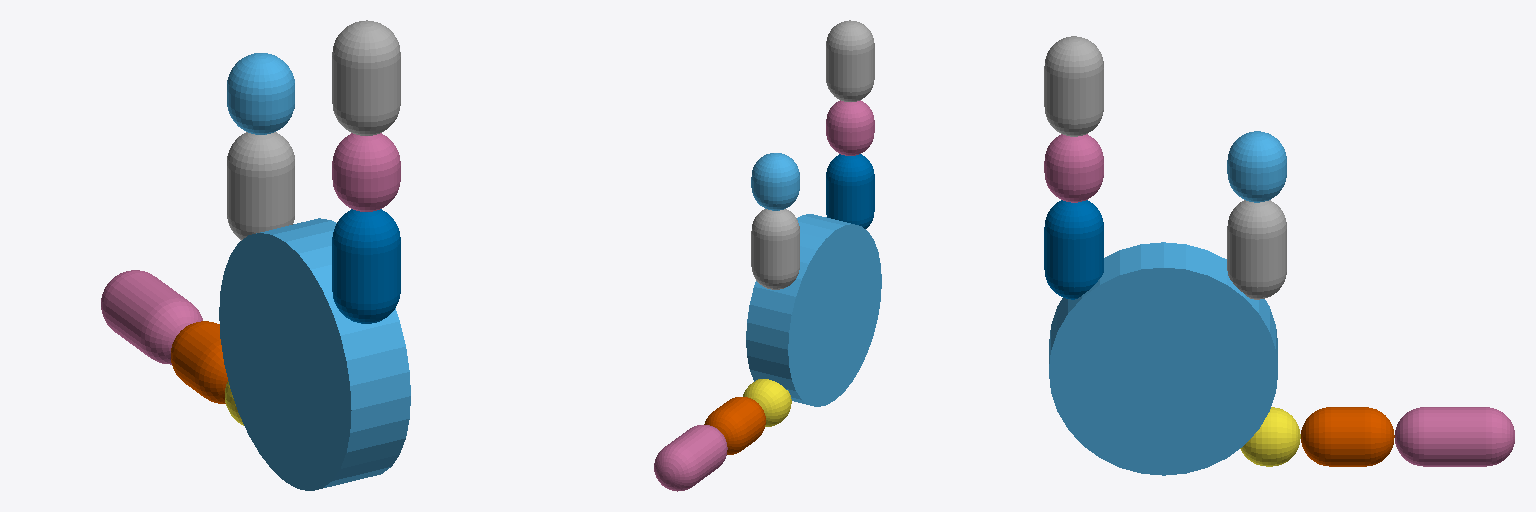
URDF robot description (DexterousHand):
<?xml version="1.0"?>
<robot name="DexterousHand">


    <link name="world"/>
    <joint name="world_to_palm" type="fixed">
        <parent link="world"/>
        <child link="palm"/>
        <origin xyz="0 0 0" rpy="0 0 0"/>
    </joint>
    <link name="palm">
        <inertial>
            <origin xyz="0 0 0.057" rpy="0 0 0"/>
            <mass value="0.30212892864"/>
            <inertia ixx="0.00049080844457568" ixy="0.0" ixz="0.0" iyy="0.00026746366246427523" iyz="0.0" izz="0.00026746366246427523"/>
        </inertial>
        <visual>
            <origin xyz="0 0 0.057" rpy="1.5708 0 1.5708"/>
            <geometry>
                <cylinder radius="0.057" length="0.0296"/>
            </geometry>
            <material name="default"/>
        </visual>
        <collision>
            <origin xyz="0 0 0.057" rpy="1.5708 0 1.5708"/>
            <geometry>
                <cylinder radius="0.057" length="0.0296"/>
            </geometry>
        </collision>
    </link>

    
    <joint name="thumb_joint1" type="revolute">
        <parent link="palm"/>
        <child link="thumb_base"/>
        <origin xyz="0.0029 0.0368 0.0157" rpy="-1.5708 -1.5708 0.0"/>
        <axis xyz="-1 0 0"/>
        <limit lower="-0.349" upper="2.094" effort="1.0" velocity="1.0"/>
    </joint>

    <link name="thumb_base"></link>

    <joint name="thumb_joint2" type="revolute">
        <parent link="thumb_base"/>
        <child link="thumb_proximal"/>
        <origin xyz="0.0 0.0 0.0" rpy="0.0 0.0 0.0"/>
        <axis xyz="0 0 1"/>
        <limit lower="-0.47" upper="2.443" effort="1.0" velocity="1.0"/>
    </joint>

    <link name="thumb_proximal">
        <inertial>
            <origin xyz="0 0 0.01565" rpy="0 0 0"/>
            <mass value="0.021538658803200002"/>
            <inertia ixx="2.9378910096388167e-06" ixy="0.0" ixz="0.0" 
            iyy="2.9378910096388167e-06" iyz="0.0" izz="2.358913912126464e-06"/>
        </inertial>
        <visual>
            <origin xyz="0 0 0.01565" rpy="0 0 0"/>
            <geometry>
                <cylinder radius="0.0148" length="0.0017000000000000001"/>
            </geometry>
            <material name="default"/>
        </visual>
        <visual>
            <origin xyz="0 0 0.0148" rpy="0 0 0"/>
            <geometry>
                <sphere radius="0.0148"/>
            </geometry>
            <material name="default"/>
        </visual>
        <visual>
            <origin xyz="0 0 0.0165" rpy="0 0 0"/>
            <geometry>
                <sphere radius="0.0148"/>
            </geometry>
            <material name="default"/>
        </visual>
        <collision>
            <origin xyz="0 0 0.01565" rpy="0 0 0"/>
            <geometry>
                <cylinder radius="0.0148" length="0.0017000000000000001"/>
            </geometry>
        </collision>
        <collision>
            <origin xyz="0 0 0.0148" rpy="0 0 0"/>
            <geometry>
                <sphere radius="0.0148"/>
            </geometry>
        </collision>
        <collision>
            <origin xyz="0 0 0.0165" rpy="0 0 0"/>
            <geometry>
                <sphere radius="0.0148"/>
            </geometry>
        </collision>
    </link>

    <joint name="thumb_joint3" type="revolute">
        <parent link="thumb_proximal"/>
        <child link="thumb_knuckle"/>
        <origin xyz="0.0 0.0 0.0313" rpy="0.0 0.0 0.0"/>
        <axis xyz="1 0 0"/>
        <limit lower="0.0" upper="0.0" effort="1.0" velocity="1.0"/>
    </joint>

    <link name="thumb_knuckle"></link>

    <joint name="thumb_joint4" type="revolute">
        <parent link="thumb_knuckle"/>
        <child link="thumb_middle"/>
        <origin xyz="0 0 0" rpy="0 0 0"/> 
        <axis xyz="0 1 0"/>
        <limit lower="-1.2" upper="1.9" effort="1.0" velocity="1.0"/>
    </joint>

    <link name="thumb_middle">
        <inertial>
            <origin xyz="0 0 0.0233" rpy="0 0 0"/>
            <mass value="0.032067140582400004"/>
            <inertia ixx="7.5589732685519385e-06" ixy="0.0" ixz="0.0" 
            iyy="7.5589732685519385e-06" iyz="0.0" izz="3.5119932365844485e-06"/>
        </inertial>
        <visual>
            <origin xyz="0 0 0.0233" rpy="0 0 0"/>
            <geometry>
                <cylinder radius="0.0148" length="0.017"/>
            </geometry>
            <material name="default"/>
        </visual>
        <visual>
            <origin xyz="0 0 0.0148" rpy="0 0 0"/>
            <geometry>
                <sphere radius="0.0148"/>
            </geometry>
            <material name="default"/>
        </visual>
        <visual>
            <origin xyz="0 0 0.0318" rpy="0 0 0"/>
            <geometry>
                <sphere radius="0.0148"/>
            </geometry>
            <material name="default"/>
        </visual>
        <collision>
            <origin xyz="0 0 0.0233" rpy="0 0 0"/>
            <geometry>
                <cylinder radius="0.0148" length="0.017"/>
            </geometry>
        </collision>
        <collision>
            <origin xyz="0 0 0.0148" rpy="0 0 0"/>
            <geometry>
                <sphere radius="0.0148"/>
            </geometry>
        </collision>
        <collision>
            <origin xyz="0 0 0.0318" rpy="0 0 0"/>
            <geometry>
                <sphere radius="0.0148"/>
            </geometry>
        </collision>
    </link>

    <joint name="thumb_joint5" type="revolute">
        <parent link="thumb_middle"/>
        <child link="thumb_distal"/>
        <origin xyz="0 0 0.0466" rpy="0 0 0"/> 
        <axis xyz="0 1 0"/>
        <limit lower="-1.34" upper="1.88" effort="1.0" velocity="1.0"/>
    </joint>

    <link name="thumb_distal">
        <inertial>
            <origin xyz="0 0 0.03" rpy="0 0 0"/>
            <mass value="0.04128816384"/>
            <inertia ixx="1.46473890038784e-05" ixy="0.0" ixz="0.0" 
            iyy="1.46473890038784e-05" iyz="0.0" izz="4.521879703756801e-06"/>
        </inertial>
        <visual>
            <origin xyz="0 0 0.03" rpy="0 0 0"/>
            <geometry>
                <cylinder radius="0.0148" length="0.030399999999999996"/>
            </geometry>
            <material name="default"/>
        </visual>
        <visual>
            <origin xyz="0 0 0.0148" rpy="0 0 0"/>
            <geometry>
                <sphere radius="0.0148"/>
            </geometry>
            <material name="default"/>
        </visual>
        <visual>
            <origin xyz="0 0 0.0452" rpy="0 0 0"/>
            <geometry>
                <sphere radius="0.0148"/>
            </geometry>
            <material name="default"/>
        </visual>
        <collision>
            <origin xyz="0 0 0.03" rpy="0 0 0"/>
            <geometry>
                <cylinder radius="0.0148" length="0.030399999999999996"/>
            </geometry>
        </collision>
        <collision>
            <origin xyz="0 0 0.0148" rpy="0 0 0"/>
            <geometry>
                <sphere radius="0.0148"/>
            </geometry>
        </collision>
        <collision>
            <origin xyz="0 0 0.0452" rpy="0 0 0"/>
            <geometry>
                <sphere radius="0.0148"/>
            </geometry>
        </collision>
    </link>

    
    <joint name="index_joint1" type="revolute">
        <parent link="palm"/>
        <child link="index_proximal"/>
        <origin xyz="0.0 0.0465 0.091" rpy="0.0 0.0 0.0"/>
        <axis xyz="0 1 0"/>
        <limit lower="-0.314" upper="2.23" effort="1.0" velocity="1.0"/>
    </joint>

    <link name="index_proximal">
        <inertial>
            <origin xyz="0 0 0.02655" rpy="0 0 0"/>
            <mass value="0.036540024998400006"/>
            <inertia ixx="1.058665009272394e-05" ixy="0.0" ixz="0.0" 
            iyy="1.058665009272394e-05" iyz="0.0" izz="4.001863537824769e-06"/>
        </inertial>
        <visual>
            <origin xyz="0 0 0.02655" rpy="0 0 0"/>
            <geometry>
                <cylinder radius="0.0148" length="0.0235"/>
            </geometry>
            <material name="default"/>
        </visual>
        <visual>
            <origin xyz="0 0 0.0148" rpy="0 0 0"/>
            <geometry>
                <sphere radius="0.0148"/>
            </geometry>
            <material name="default"/>
        </visual>
        <visual>
            <origin xyz="0 0 0.0383" rpy="0 0 0"/>
            <geometry>
                <sphere radius="0.0148"/>
            </geometry>
            <material name="default"/>
        </visual>
        <collision>
            <origin xyz="0 0 0.02655" rpy="0 0 0"/>
            <geometry>
                <cylinder radius="0.0148" length="0.0235"/>
            </geometry>
        </collision>
        <collision>
            <origin xyz="0 0 0.0148" rpy="0 0 0"/>
            <geometry>
                <sphere radius="0.0148"/>
            </geometry>
        </collision>
        <collision>
            <origin xyz="0 0 0.0383" rpy="0 0 0"/>
            <geometry>
                <sphere radius="0.0148"/>
            </geometry>
        </collision>
    </link>

    <joint name="index_joint2" type="revolute">
        <parent link="index_proximal"/>
        <child link="index_dummy"/>
        <origin xyz="0.0 0.0 0.038" rpy="0.0 0.0 0.0"/>
        <axis xyz="1 0 0"/>
        <limit lower="-1.047" upper="1.047" effort="1.0" velocity="1.0"/>
    </joint>

    <link name="index_dummy"></link>

    <joint name="index_joint3" type="revolute">
        <parent link="index_dummy"/>
        <child link="index_middle"/>
        <origin xyz="0 0 0.015100000000000002" rpy="0 0 0"/>
        <axis xyz="0 1 0"/>
        <limit lower="-0.506" upper="1.885" effort="1.0" velocity="1.0"/>
    </joint>

    <link name="index_middle">
        <inertial>
            <origin xyz="0 0 0.01805" rpy="0 0 0"/>
            <mass value="0.0248417119104"/>
            <inertia ixx="4.058162759109537e-06" ixy="0.0" ixz="0.0" 
            iyy="4.058162759109537e-06" iyz="0.0" izz="2.7206642884270085e-06"/>
        </inertial>
        <visual>
            <origin xyz="0 0 0.01805" rpy="0 0 0"/>
            <geometry>
                <cylinder radius="0.0148" length="0.006499999999999999"/>
            </geometry>
            <material name="default"/>
        </visual>
        <visual>
            <origin xyz="0 0 0.0148" rpy="0 0 0"/>
            <geometry>
                <sphere radius="0.0148"/>
            </geometry>
            <material name="default"/>
        </visual>
        <visual>
            <origin xyz="0 0 0.0213" rpy="0 0 0"/>
            <geometry>
                <sphere radius="0.0148"/>
            </geometry>
            <material name="default"/>
        </visual>
        <collision>
            <origin xyz="0 0 0.01805" rpy="0 0 0"/>
            <geometry>
                <cylinder radius="0.0148" length="0.006499999999999999"/>
            </geometry>
        </collision>
        <collision>
            <origin xyz="0 0 0.0148" rpy="0 0 0"/>
            <geometry>
                <sphere radius="0.0148"/>
            </geometry>
        </collision>
        <collision>
            <origin xyz="0 0 0.0213" rpy="0 0 0"/>
            <geometry>
                <sphere radius="0.0148"/>
            </geometry>
        </collision>
    </link>

    <joint name="index_joint4" type="revolute">
        <parent link="index_middle"/>
        <child link="index_distal"/>
        <origin xyz="0 0 0.0361" rpy="0 0 0"/> 
        <axis xyz="0 1 0"/>
        <limit lower="0.0" upper="0.0" effort="1.0" velocity="1.0"/>
    </joint>

    <link name="index_distal">
    </link>

    
    <joint name="middle_joint1" type="revolute">
        <parent link="palm"/>
        <child link="middle_proximal"/>
        <origin xyz="0.0 0.0 0.0" rpy="0.0 0.0 0.0"/>
        <axis xyz="1 0 0"/>
        <limit lower="0.0" upper="0.0" effort="1.0" velocity="1.0"/>
    </joint>

    <link name="middle_proximal">
    </link>

    <joint name="middle_joint2" type="revolute">
        <parent link="middle_proximal"/>
        <child link="middle_dummy"/>
        <origin xyz="0.0 0.0 0.0" rpy="0.0 0.0 0.0"/>
        <axis xyz="0 1 0"/>
        <limit lower="0.0" upper="0.0" effort="1.0" velocity="1.0"/>
    </joint>

    <link name="middle_dummy"></link>

    <joint name="middle_joint3" type="revolute">
        <parent link="middle_dummy"/>
        <child link="middle_middle"/>
        <origin xyz="0 0 0" rpy="0 0 0"/>
        <axis xyz="0 1 0"/>
        <limit lower="0.0" upper="0.0" effort="1.0" velocity="1.0"/>
    </joint>

    <link name="middle_middle">
    </link>

    <joint name="middle_joint4" type="revolute">
        <parent link="middle_middle"/>
        <child link="middle_distal"/>
        <origin xyz="0 0 0" rpy="0 0 0"/> 
        <axis xyz="0 1 0"/>
        <limit lower="0.0" upper="0.0" effort="1.0" velocity="1.0"/>
    </joint>

    <link name="middle_distal">
    </link>

    
    <joint name="ring_joint1" type="revolute">
        <parent link="palm"/>
        <child link="ring_proximal"/>
        <origin xyz="0.0 0.0 0.0" rpy="0.0 0.0 0.0"/>
        <axis xyz="1 0 0"/>
        <limit lower="0.0" upper="0.0" effort="1.0" velocity="1.0"/>
    </joint>

    <link name="ring_proximal">
    </link>

    <joint name="ring_joint2" type="revolute">
        <parent link="ring_proximal"/>
        <child link="ring_dummy"/>
        <origin xyz="0.0 0.0 0.0" rpy="0.0 0.0 0.0"/>
        <axis xyz="0 1 0"/>
        <limit lower="0.0" upper="0.0" effort="1.0" velocity="1.0"/>
    </joint>

    <link name="ring_dummy"></link>

    <joint name="ring_joint3" type="revolute">
        <parent link="ring_dummy"/>
        <child link="ring_middle"/>
        <origin xyz="0 0 0" rpy="0 0 0"/>
        <axis xyz="0 1 0"/>
        <limit lower="0.0" upper="0.0" effort="1.0" velocity="1.0"/>
    </joint>

    <link name="ring_middle">
    </link>

    <joint name="ring_joint4" type="revolute">
        <parent link="ring_middle"/>
        <child link="ring_distal"/>
        <origin xyz="0 0 0" rpy="0 0 0"/> 
        <axis xyz="0 1 0"/>
        <limit lower="0.0" upper="0.0" effort="1.0" velocity="1.0"/>
    </joint>

    <link name="ring_distal">
    </link>

    
    <joint name="little_joint0" type="revolute">
        <parent link="palm"/>
        <child link="little_base"/>
        <origin xyz="0.0 0.0 0.0" rpy="0.0 0.0 0.0"/>
        <axis xyz="0 1 0"/>
        <limit lower="0.0" upper="0.0" effort="1.0" velocity="1.0"/>
    </joint>

    <link name="little_base"></link>

    <joint name="little_joint1" type="revolute">
        <parent link="little_base"/>
        <child link="little_proximal"/>
        <origin xyz="0.0 -0.0443 0.091" rpy="-0.0 -0.0 -0.0"/>
        <axis xyz="0 1 0"/>
        <limit lower="-0.314" upper="2.23" effort="1.0" velocity="1.0"/>
    </joint>

    <link name="little_proximal">
        <inertial>
            <origin xyz="0 0 0.02655" rpy="0 0 0"/>
            <mass value="0.036540024998400006"/>
            <inertia ixx="1.058665009272394e-05" ixy="0.0" ixz="0.0" 
            iyy="1.058665009272394e-05" iyz="0.0" izz="4.001863537824769e-06"/>
        </inertial>
        <visual>
            <origin xyz="0 0 0.02655" rpy="0 0 0"/>
            <geometry>
                <cylinder radius="0.0148" length="0.0235"/>
            </geometry>
            <material name="default"/>
        </visual>
        <visual>
            <origin xyz="0 0 0.0148" rpy="0 0 0"/>
            <geometry>
                <sphere radius="0.0148"/>
            </geometry>
            <material name="default"/>
        </visual>
        <visual>
            <origin xyz="0 0 0.0383" rpy="0 0 0"/>
            <geometry>
                <sphere radius="0.0148"/>
            </geometry>
            <material name="default"/>
        </visual>
        <collision>
            <origin xyz="0 0 0.02655" rpy="0 0 0"/>
            <geometry>
                <cylinder radius="0.0148" length="0.0235"/>
            </geometry>
        </collision>
        <collision>
            <origin xyz="0 0 0.0148" rpy="0 0 0"/>
            <geometry>
                <sphere radius="0.0148"/>
            </geometry>
        </collision>
        <collision>
            <origin xyz="0 0 0.0383" rpy="0 0 0"/>
            <geometry>
                <sphere radius="0.0148"/>
            </geometry>
        </collision>
    </link>

    <joint name="little_joint2" type="revolute">
        <parent link="little_proximal"/>
        <child link="little_dummy"/>
        <origin xyz="0.0 0.0 0.038" rpy="0.0 0.0 0.0"/>
        <axis xyz="1 0 0"/>
        <limit lower="-1.047" upper="1.047" effort="1.0" velocity="1.0"/>
    </joint>

    <link name="little_dummy"></link>

    <joint name="little_joint3" type="revolute">
        <parent link="little_dummy"/>
        <child link="little_middle"/>
        <origin xyz="0 0 0.015100000000000002" rpy="0 0 0"/>
        <axis xyz="0 1 0"/>
        <limit lower="-0.506" upper="1.885" effort="1.0" velocity="1.0"/>
    </joint>

    <link name="little_middle">
        <inertial>
            <origin xyz="0 0 0.01805" rpy="0 0 0"/>
            <mass value="0.0248417119104"/>
            <inertia ixx="4.058162759109537e-06" ixy="0.0" ixz="0.0" 
            iyy="4.058162759109537e-06" iyz="0.0" izz="2.7206642884270085e-06"/>
        </inertial>
        <visual>
            <origin xyz="0 0 0.01805" rpy="0 0 0"/>
            <geometry>
                <cylinder radius="0.0148" length="0.006499999999999999"/>
            </geometry>
            <material name="default"/>
        </visual>
        <visual>
            <origin xyz="0 0 0.0148" rpy="0 0 0"/>
            <geometry>
                <sphere radius="0.0148"/>
            </geometry>
            <material name="default"/>
        </visual>
        <visual>
            <origin xyz="0 0 0.0213" rpy="0 0 0"/>
            <geometry>
                <sphere radius="0.0148"/>
            </geometry>
            <material name="default"/>
        </visual>
        <collision>
            <origin xyz="0 0 0.01805" rpy="0 0 0"/>
            <geometry>
                <cylinder radius="0.0148" length="0.006499999999999999"/>
            </geometry>
        </collision>
        <collision>
            <origin xyz="0 0 0.0148" rpy="0 0 0"/>
            <geometry>
                <sphere radius="0.0148"/>
            </geometry>
        </collision>
        <collision>
            <origin xyz="0 0 0.0213" rpy="0 0 0"/>
            <geometry>
                <sphere radius="0.0148"/>
            </geometry>
        </collision>
    </link>

    <joint name="little_joint4" type="revolute">
        <parent link="little_middle"/>
        <child link="little_distal"/>
        <origin xyz="0 0 0.0361" rpy="0 0 0"/>
        <axis xyz="0 1 0"/>
        <limit lower="-0.366" upper="2.042" effort="1.0" velocity="1.0"/>
    </joint>

    <link name="little_distal">
        <inertial>
            <origin xyz="0 0 0.026" rpy="0 0 0"/>
            <mass value="0.035783075328"/>
            <inertia ixx="1.002260084553728e-05" ixy="0.0" ixz="0.0" 
            iyy="1.002260084553728e-05" iyz="0.0" izz="3.91896240992256e-06"/>
        </inertial>
        <visual>
            <origin xyz="0 0 0.026" rpy="0 0 0"/>
            <geometry>
                <cylinder radius="0.0148" length="0.022399999999999996"/>
            </geometry>
            <material name="default"/>
        </visual>
        <visual>
            <origin xyz="0 0 0.0148" rpy="0 0 0"/>
            <geometry>
                <sphere radius="0.0148"/>
            </geometry>
            <material name="default"/>
        </visual>
        <visual>
            <origin xyz="0 0 0.0372" rpy="0 0 0"/>
            <geometry>
                <sphere radius="0.0148"/>
            </geometry>
            <material name="default"/>
        </visual>
        <collision>
            <origin xyz="0 0 0.026" rpy="0 0 0"/>
            <geometry>
                <cylinder radius="0.0148" length="0.022399999999999996"/>
            </geometry>
        </collision>
        <collision>
            <origin xyz="0 0 0.0148" rpy="0 0 0"/>
            <geometry>
                <sphere radius="0.0148"/>
            </geometry>
        </collision>
        <collision>
            <origin xyz="0 0 0.0372" rpy="0 0 0"/>
            <geometry>
                <sphere radius="0.0148"/>
            </geometry>
        </collision>
    </link>

</robot>

--- Render facts (derived) ---
3 views of the same robot in one strip: view 1: azimuth 30°, elevation 25°; view 2: azimuth 150°, elevation 25°; view 3: azimuth 270°, elevation 25° (orthographic).
Robot: DexterousHand — 24 links, 23 joints (22 revolute, 1 fixed); root link world; default pose: all joints at 0.
Links seen in each view (by area): view 1: palm, little_proximal, little_distal, index_proximal, thumb_distal, index_middle, little_middle, thumb_middle; view 2: palm, index_proximal, little_distal, thumb_distal, little_proximal, index_middle, little_middle, thumb_middle, thumb_proximal; view 3: palm, thumb_distal, little_distal, index_proximal, little_proximal, thumb_middle, index_middle, little_middle, thumb_proximal.
Boxes of the visible links, box(x1,y1,x2,y2) form: palm: box(219, 218, 410, 490); little_proximal: box(332, 209, 400, 323); little_distal: box(332, 20, 400, 135); index_proximal: box(227, 132, 294, 240); thumb_distal: box(101, 270, 202, 364); index_middle: box(227, 53, 294, 134); little_middle: box(332, 133, 400, 211); thumb_middle: box(171, 321, 227, 403); palm: box(746, 214, 881, 406); index_proximal: box(751, 209, 799, 289); little_distal: box(826, 20, 874, 101); thumb_distal: box(654, 425, 727, 491); little_proximal: box(826, 154, 874, 228); index_middle: box(751, 153, 799, 210); little_middle: box(826, 100, 874, 155); thumb_middle: box(704, 397, 765, 454); thumb_proximal: box(743, 379, 791, 426); palm: box(1049, 242, 1277, 475); thumb_distal: box(1395, 407, 1514, 466); little_distal: box(1044, 36, 1103, 136); index_proximal: box(1227, 200, 1286, 299); little_proximal: box(1044, 200, 1103, 299); thumb_middle: box(1301, 407, 1394, 466); index_middle: box(1227, 131, 1286, 202); little_middle: box(1044, 134, 1103, 202); thumb_proximal: box(1240, 407, 1300, 466).
Bounding box of the posed robot: 0.0325 × 0.2338 × 0.2322 m (x, y, z).
Geometry: primitives only (box / cylinder / sphere), no mesh files.
